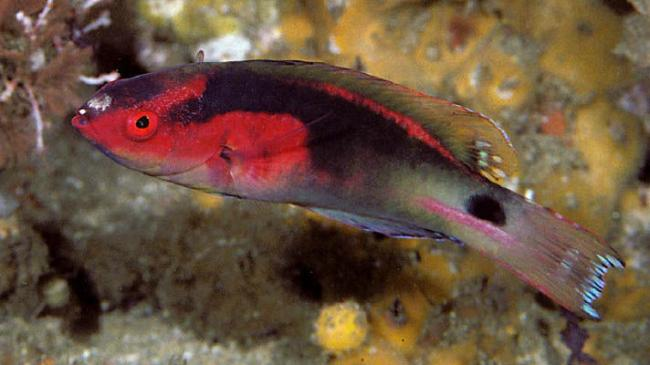fish: (71, 60, 624, 318)
